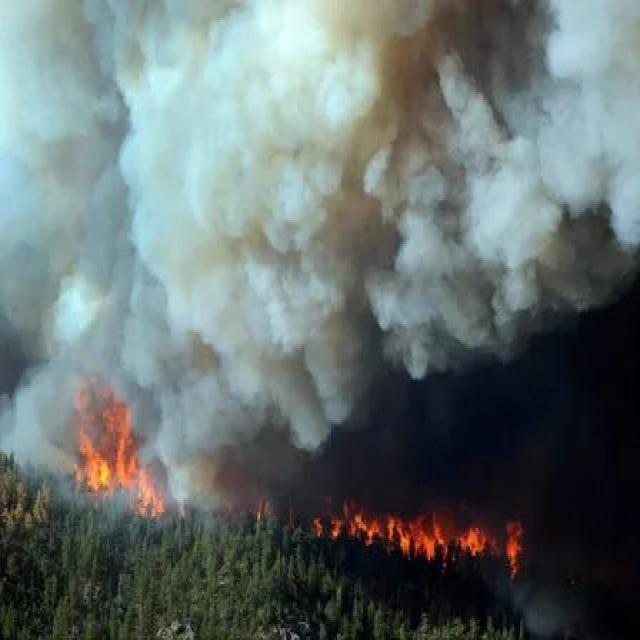Fire: (302, 490, 531, 590), (66, 378, 180, 534)
Smoke: (0, 0, 625, 414)
